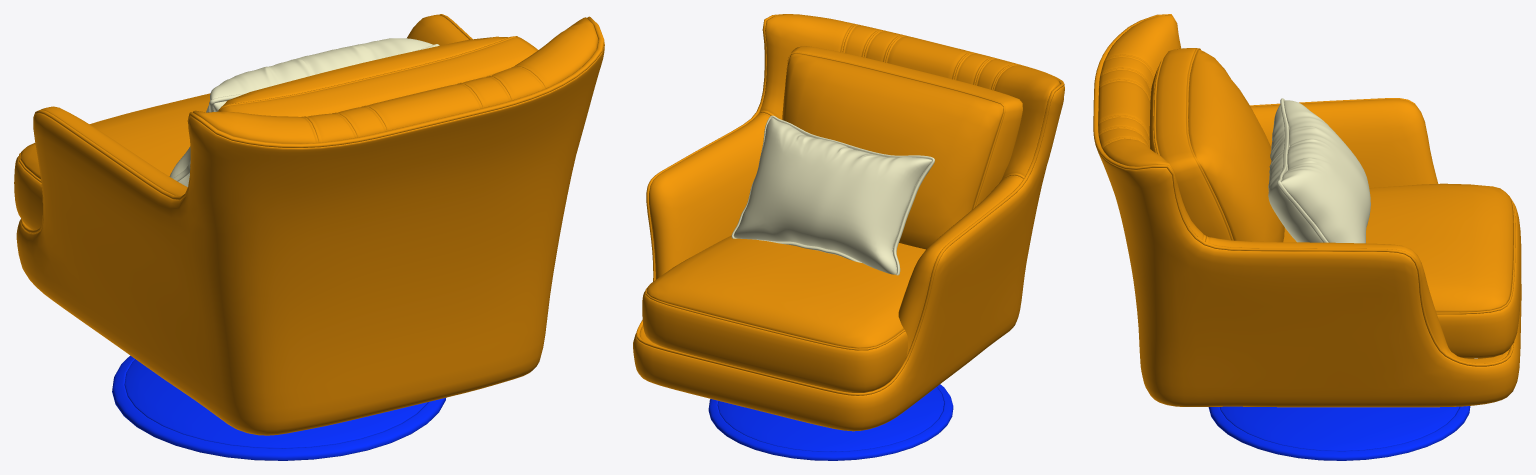
File: sofa_chair.FBX
3 renders of one model, left to right at view 1: azimuth 30°, elevation 25°; view 2: azimuth 150°, elevation 25°; view 3: azimuth 270°, elevation 25°, orthographic. The views are drawn at different scales.
Parts seen in each view (by area): view 1: xcxc; view 2: xcxc; view 3: xcxc.
Boxes of the visible parts, x1,y1,x2,y2 form: xcxc: (14,14,604,460); xcxc: (633,14,1064,460); xcxc: (1093,14,1521,460).
Bounding box in the file's own units: 0.00112 × 0.00129 × 0.00106.
